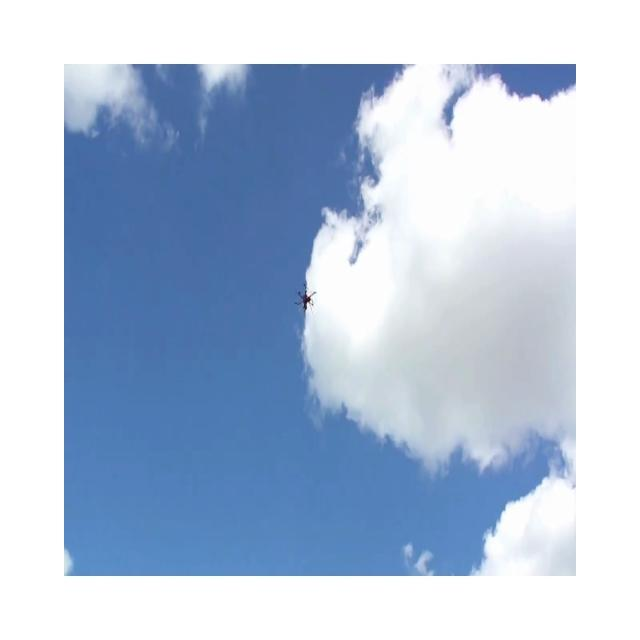drone: (294, 281, 316, 313)
